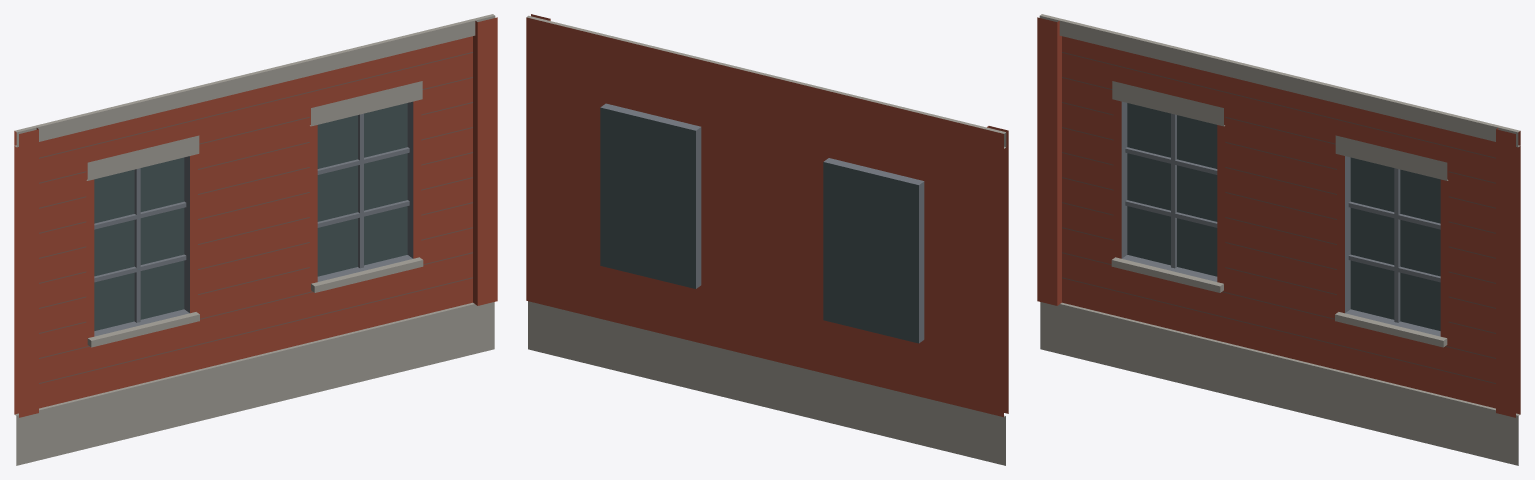
The model's file is base-w1_close.fbx.
3 renders of one model, left to right at view 1: azimuth 30°, elevation 25°; view 2: azimuth 150°, elevation 25°; view 3: azimuth 330°, elevation 25°, orthographic.
Parts seen in each view (by area): view 1: a2013/700/base-w1_close; view 2: a2013/700/base-w1_close; view 3: a2013/700/base-w1_close.
Boxes of the visible parts, <box> form: a2013/700/base-w1_close: <box>14,14,497,465</box>; a2013/700/base-w1_close: <box>526,14,1008,465</box>; a2013/700/base-w1_close: <box>1037,14,1520,465</box>.
Bounding box in the file's own units: 6 × 4 × 0.22.
